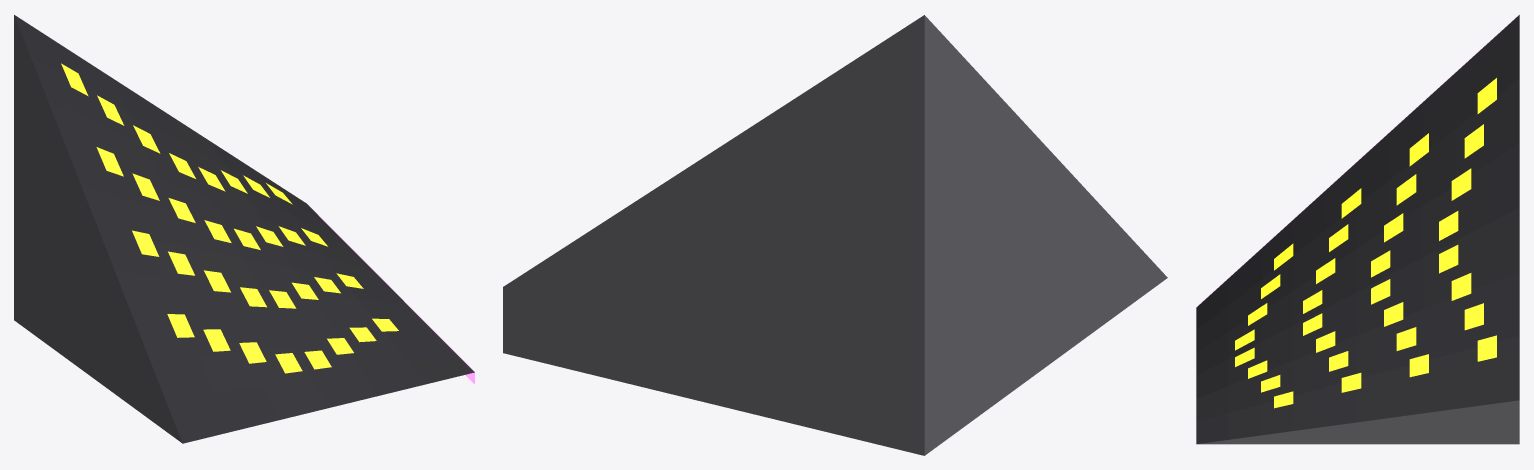
The model's file is barrel_ramp_l.glb.
3 renders of one model, left to right at view 1: azimuth 30°, elevation 25°; view 2: azimuth 150°, elevation 25°; view 3: azimuth 270°, elevation 25°, orthographic. The views are drawn at different scales.
Visible parts, largest first — view 1: Ramp; view 2: Ramp; view 3: Ramp.
Part boxes in pixels (x1,y1,x2,y2): Ramp: [14, 15, 474, 443]; Ramp: [503, 15, 1167, 455]; Ramp: [1196, 14, 1519, 444].
Bounding box in the file's own units: 1 × 1.04 × 1.
